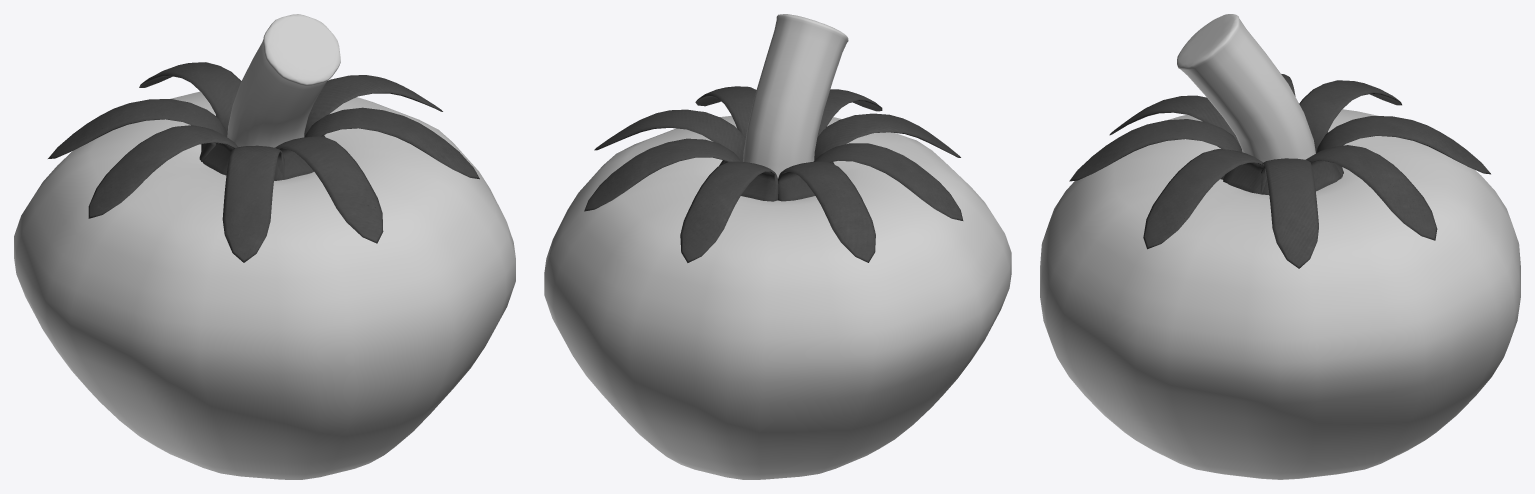
Rendered from Tomato.fbx.
3 renders of one model, left to right at view 1: azimuth 30°, elevation 25°; view 2: azimuth 150°, elevation 25°; view 3: azimuth 270°, elevation 25°, orthographic. The views are drawn at different scales.
Visible parts, largest first — view 1: Smoothed_Totamo, pCube8, pCube4, pCube6, pCube7, pCube5, pCube3, pCube1; view 2: Smoothed_Totamo, pCube3, pCube5, pCube6, pCube2, pCube1, pCube4, pCube7, pCube8; view 3: Smoothed_Totamo, pCube7, pCube2, pCube1, pCube8, pCube3, pCube5, pCube4.
Boxes of the visible parts, x1,y1,x2,y2 form: Smoothed_Totamo: (14, 14, 515, 479); pCube8: (274, 136, 383, 243); pCube4: (222, 145, 284, 262); pCube6: (88, 125, 237, 218); pCube7: (304, 107, 479, 179); pCube5: (48, 99, 227, 161); pCube3: (139, 62, 241, 133); pCube1: (304, 75, 442, 136); Smoothed_Totamo: (544, 14, 1011, 479); pCube3: (680, 161, 778, 262); pCube5: (778, 161, 875, 262); pCube6: (813, 143, 963, 220); pCube2: (584, 138, 741, 211); pCube1: (594, 109, 745, 165); pCube4: (814, 113, 960, 162); pCube7: (695, 86, 756, 137); pCube8: (817, 89, 882, 136); Smoothed_Totamo: (1040, 14, 1520, 479); pCube7: (1143, 149, 1266, 249); pCube2: (1306, 145, 1437, 240); pCube1: (1260, 158, 1318, 268); pCube8: (1069, 119, 1242, 181); pCube3: (1316, 116, 1490, 177); pCube5: (1299, 80, 1401, 152); pCube4: (1109, 95, 1239, 144).
Size of the model in its own units: 3.32 by 3.12 by 3.26.
